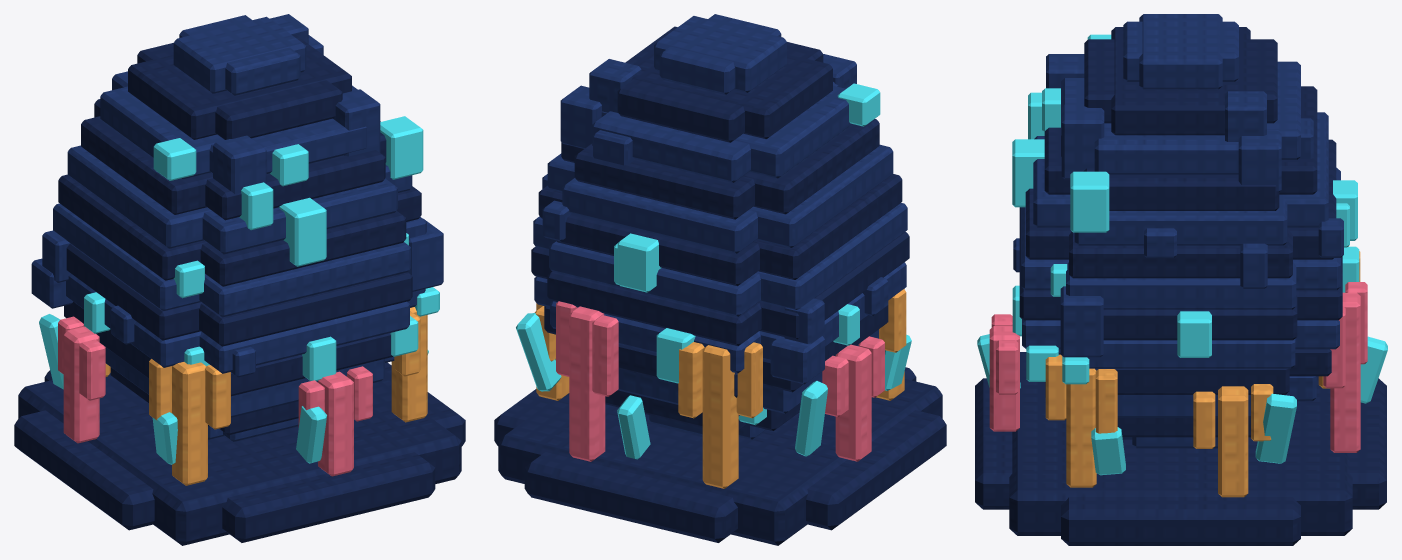
Rendered from oeuf_7_abysses.glb.
3 renders of one model, left to right at view 1: azimuth 30°, elevation 25°; view 2: azimuth 150°, elevation 25°; view 3: azimuth 270°, elevation 25°, orthographic. The views are drawn at different scales.
Parts seen in each view (by area): view 1: oeuf_7_abysses; view 2: oeuf_7_abysses; view 3: oeuf_7_abysses.
Boxes of the visible parts, box(x1,y1,x2,y2) form: oeuf_7_abysses: box(14, 14, 465, 545); oeuf_7_abysses: box(494, 14, 946, 545); oeuf_7_abysses: box(975, 14, 1387, 545).
Size of the model in its own units: 4.08 by 4.7 by 4.09.
Materials: 1 (1 with a texture image).
